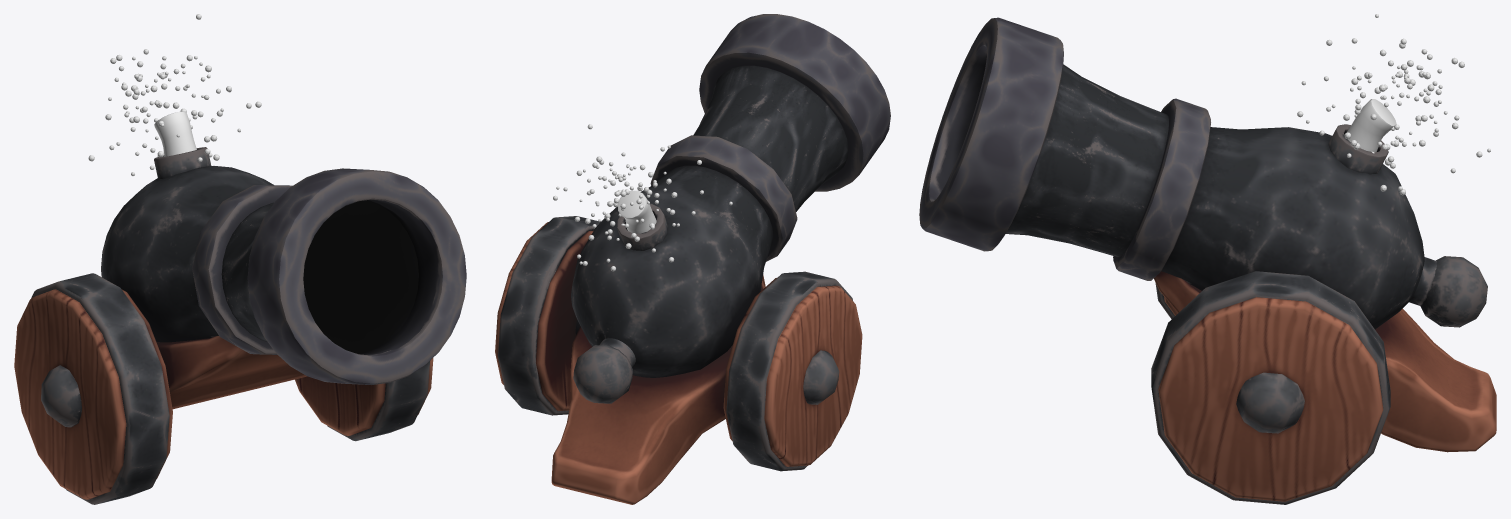
Rendered from Upload 1.fbx.
3 views of the same model, side by side, from view 1: azimuth 30°, elevation 25°; view 2: azimuth 150°, elevation 25°; view 3: azimuth 270°, elevation 25° (orthographic). The views are drawn at different scales.
Visible parts, largest first — view 1: Cylinder.001, Cylinder.006, Cylinder, Cylinder.007, Cube, Cylinder.010, Sphere.001, Cylinder.005, Cylinder.004; view 2: Cylinder, Cylinder.006, Cube, Cylinder.007, Cylinder.001, Cylinder.010, Sphere, Sphere.001, Cylinder.004, Cylinder.005; view 3: Cylinder, Cylinder.006, Cylinder.001, Cube, Cylinder.007, Cylinder.010, Sphere, Sphere.001, Cylinder.005, Cylinder.004.
Part boxes in pixels (<box>): Cylinder.001: <box>247,168,466,384</box>; Cylinder.006: <box>14,289,433,499</box>; Cylinder: <box>101,166,273,342</box>; Cylinder.007: <box>31,273,429,504</box>; Cube: <box>156,336,306,409</box>; Cylinder.010: <box>192,185,292,354</box>; Sphere.001: <box>41,365,81,427</box>; Cylinder.005: <box>154,111,196,156</box>; Cylinder.004: <box>154,147,211,179</box>; Cylinder: <box>571,65,848,377</box>; Cylinder.006: <box>495,222,862,466</box>; Cube: <box>551,274,765,504</box>; Cylinder.007: <box>498,216,852,471</box>; Cylinder.001: <box>699,14,890,191</box>; Cylinder.010: <box>650,135,797,261</box>; Sphere: <box>573,345,632,403</box>; Sphere.001: <box>803,350,839,404</box>; Cylinder.004: <box>617,203,667,250</box>; Cylinder.005: <box>617,190,656,233</box>; Cylinder: <box>1006,64,1436,329</box>; Cylinder.006: <box>1158,296,1383,501</box>; Cylinder.001: <box>919,17,1063,251</box>; Cube: <box>1154,271,1496,452</box>; Cylinder.007: <box>1151,271,1390,504</box>; Cylinder.010: <box>1113,98,1210,280</box>; Sphere: <box>1420,256,1487,327</box>; Sphere.001: <box>1236,372,1304,433</box>; Cylinder.005: <box>1347,99,1396,152</box>; Cylinder.004: <box>1328,124,1388,174</box>.
Size of the model in its own units: 385 by 400 by 511.
